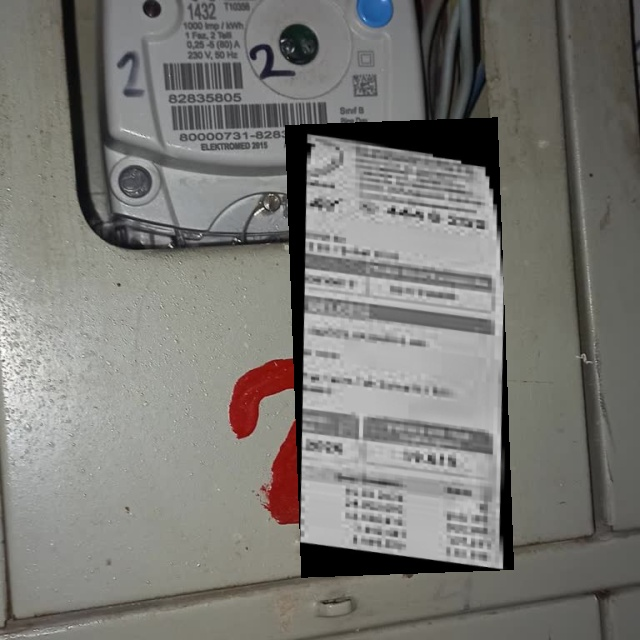electricity-bill: (284, 117, 513, 578)
